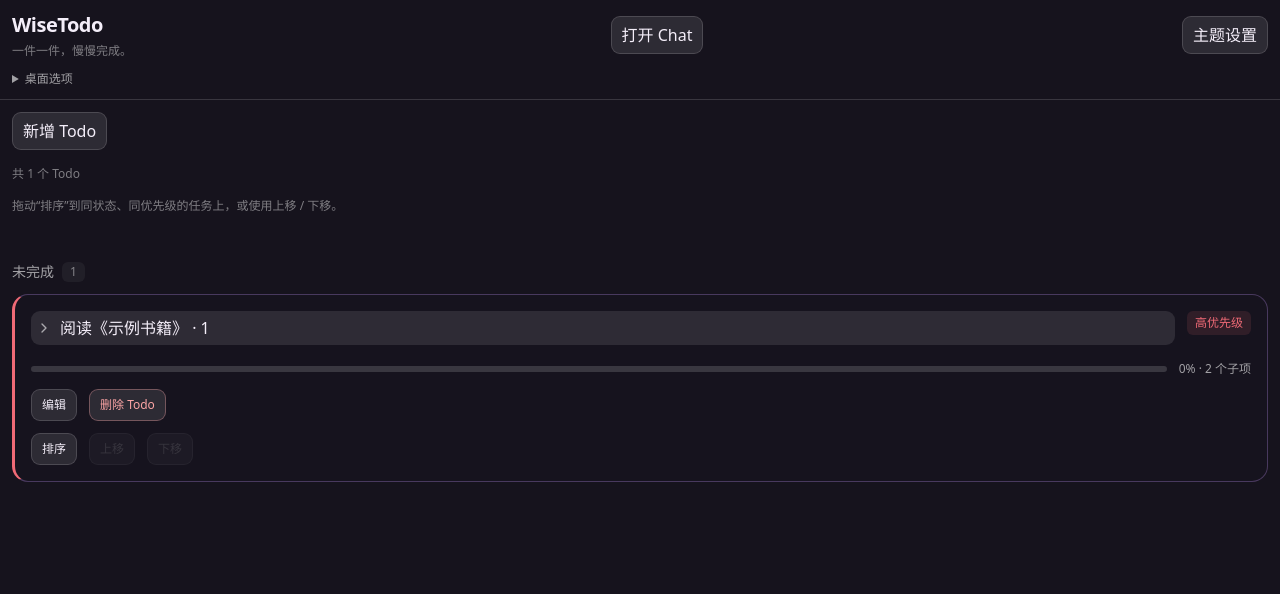
Test: saves each child, updates progress and moves completed Todos without collapsing them
The width and height of the screenshot is (1280, 594).
Click the button "阅读《示例书籍》 · 1" at (135, 328), box top-left (31, 311), bottom-right (1175, 345)
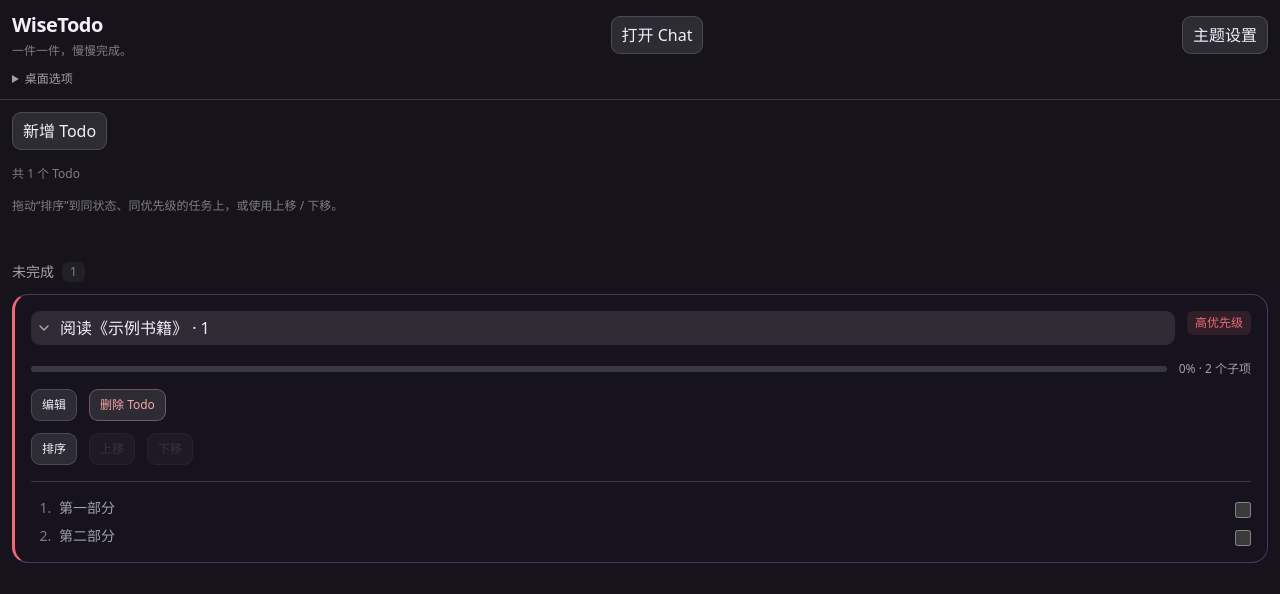
Click the 1st checkbox at (1243, 510), box top-left (1235, 502), bottom-right (1251, 518)
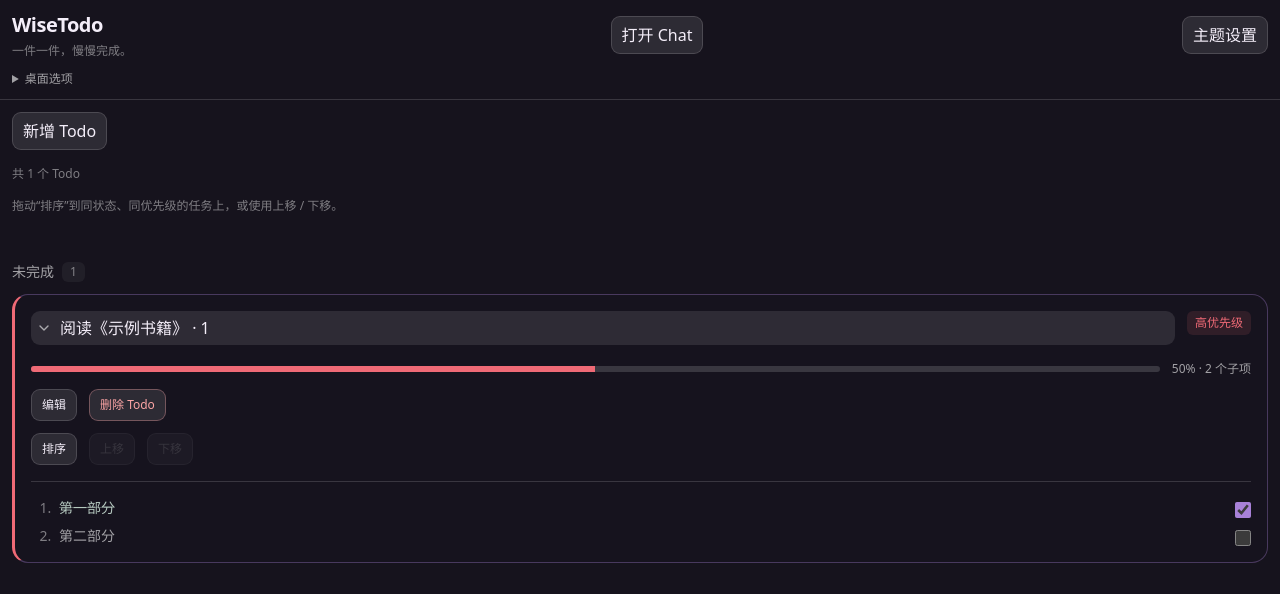
Now the progress indicator has attribute value="0.5", box top-left (31, 366), bottom-right (1160, 372)
Now the 1st checkbox is checked, box top-left (1235, 502), bottom-right (1251, 518)
Click the 2nd checkbox at (1243, 538), box top-left (1235, 530), bottom-right (1251, 546)
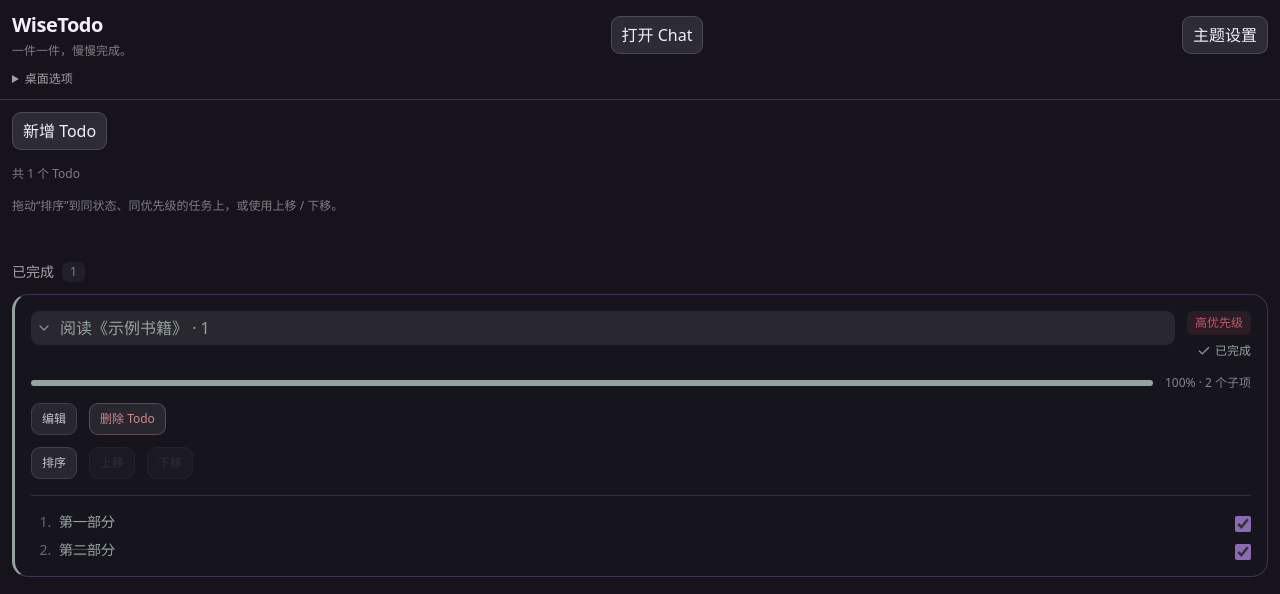
Now the number of checkboxes is 2
Now the list named "已完成 Todo" is shown, box top-left (12, 294), bottom-right (1268, 577)
Click the 1st checkbox at (1243, 524), box top-left (1235, 516), bottom-right (1251, 532)
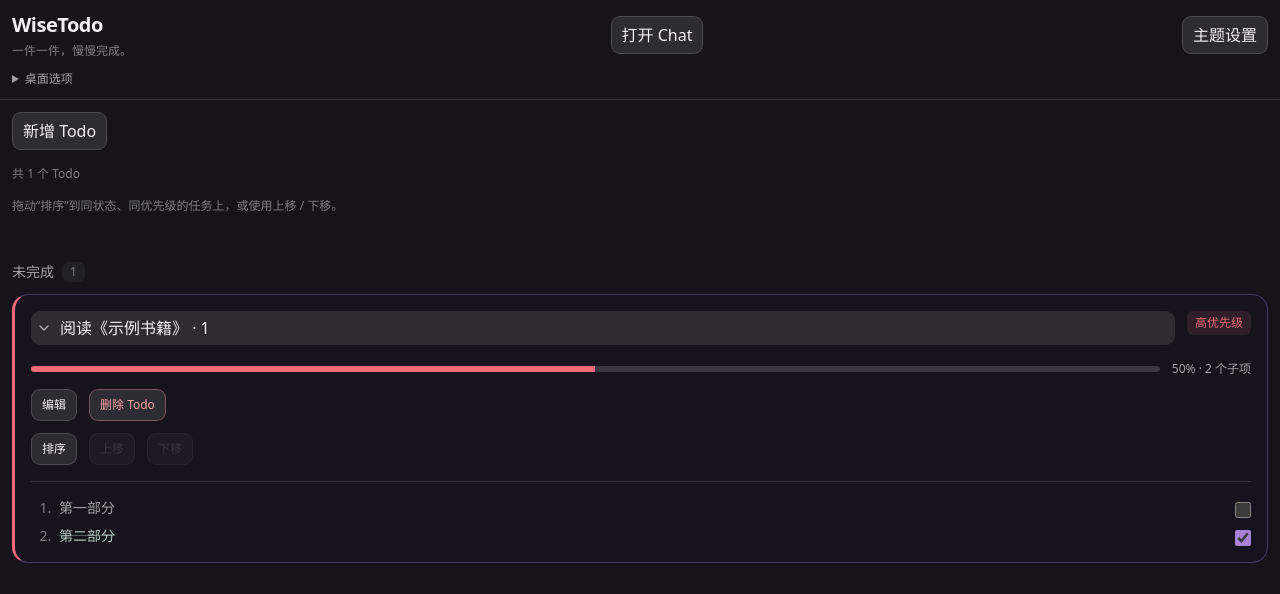
Now the list named "未完成 Todo" is shown, box top-left (12, 294), bottom-right (1268, 563)
Now the 1st checkbox is not checked, box top-left (1235, 502), bottom-right (1251, 518)
